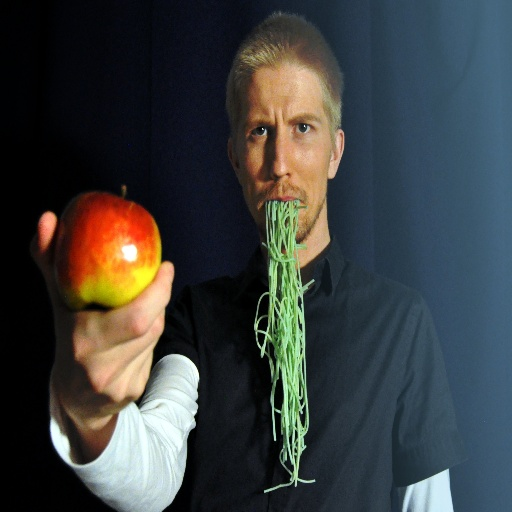hand: (21, 223, 196, 512)
